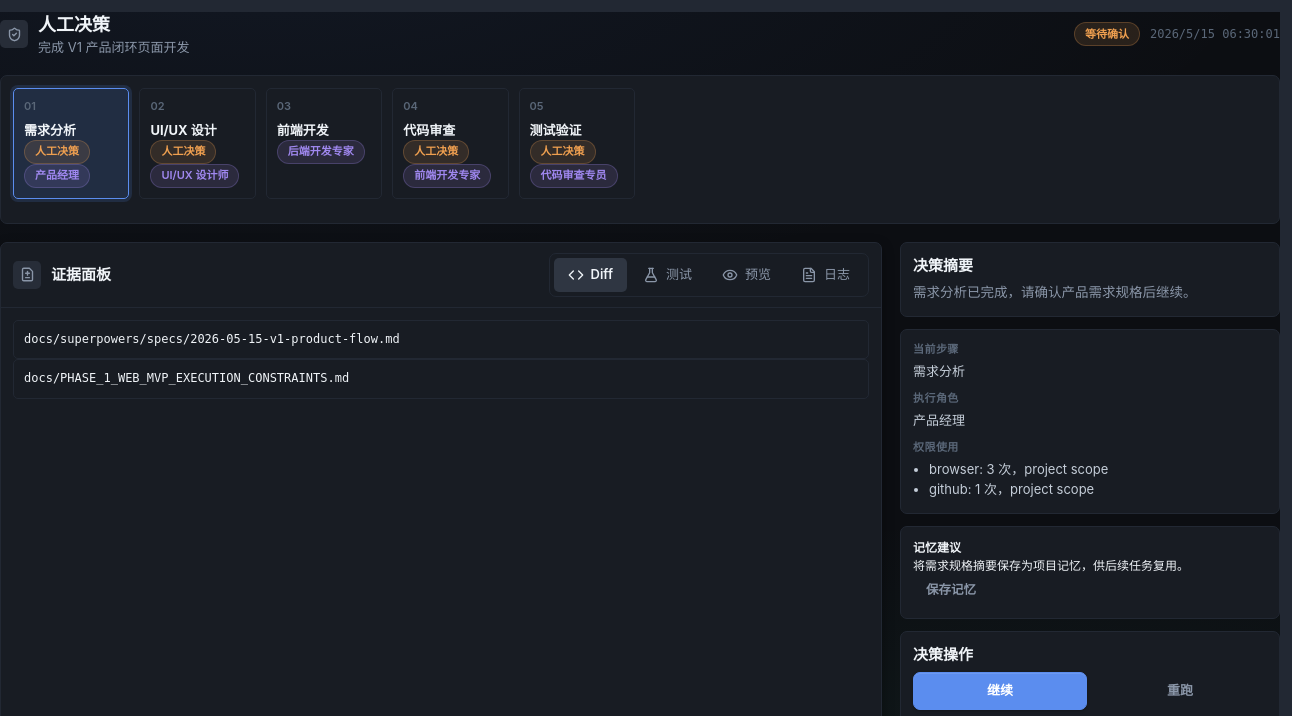
Test case: ManualGateDecision › switches evidence tabs on click
Click the button "测试" at coordinates (668, 275), box [629,258,706,292]
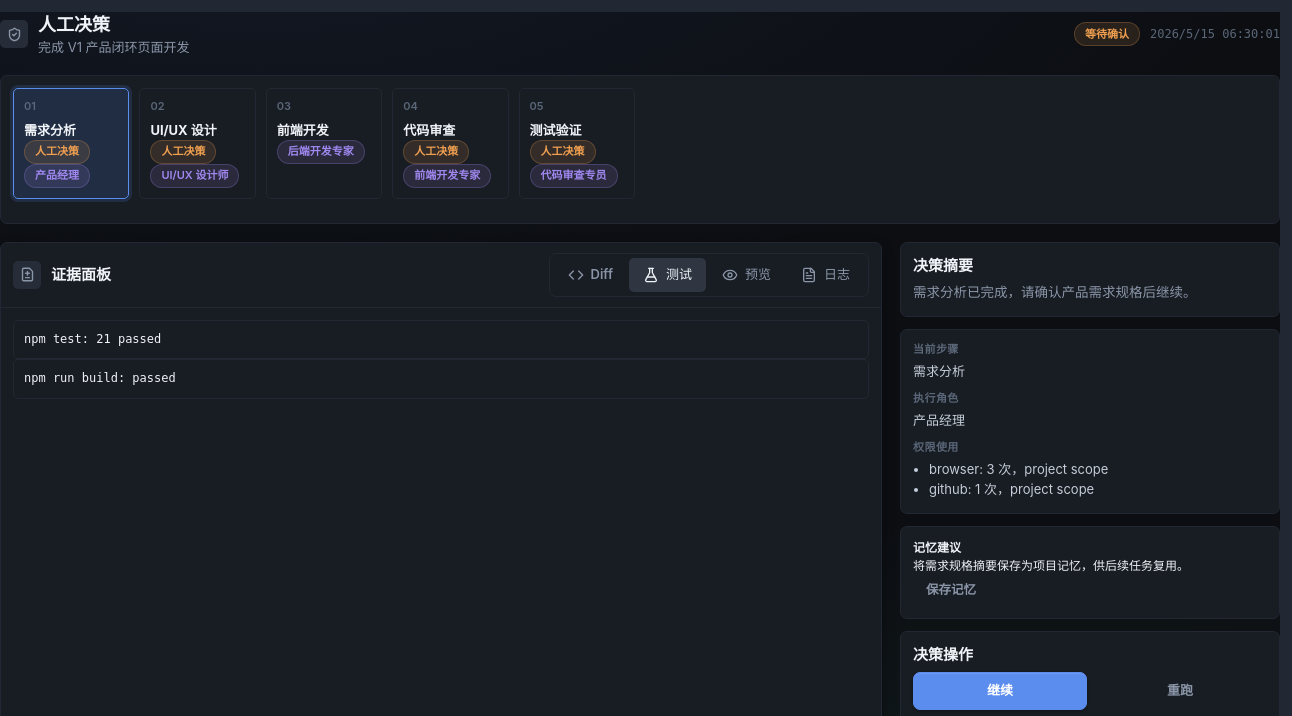
Result: the text "npm test: 21 passed" is shown at [24,332,161,346]
